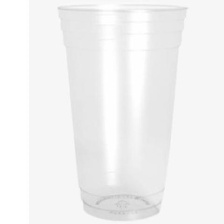glass: (52, 0, 190, 224)
